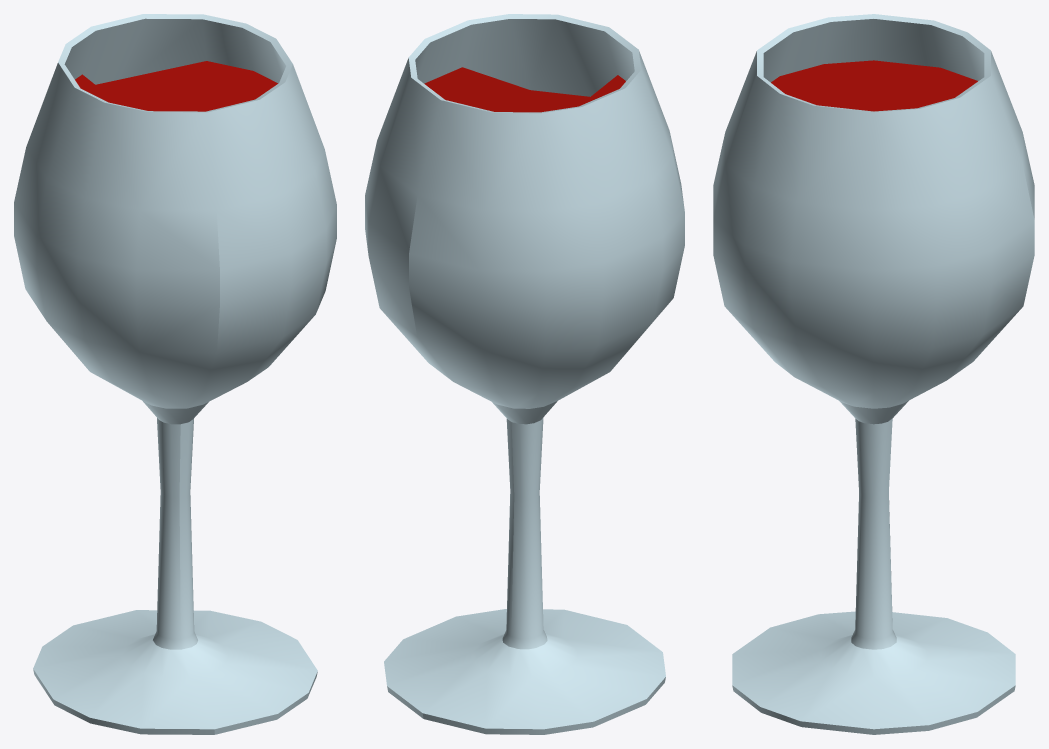
The model's file is Wine Glass Full.fbx.
3 renders of one model, left to right at view 1: azimuth 30°, elevation 25°; view 2: azimuth 150°, elevation 25°; view 3: azimuth 270°, elevation 25°, orthographic.
Parts seen in each view (by area): view 1: Wine Glass_Full; view 2: Wine Glass_Full; view 3: Wine Glass_Full.
Boxes of the visible parts, box(x1,y1,x2,y2) form: Wine Glass_Full: box(14, 14, 336, 734); Wine Glass_Full: box(365, 14, 684, 734); Wine Glass_Full: box(713, 14, 1034, 734).
Bounding box in the file's own units: 31.75 × 67.14 × 31.94.
